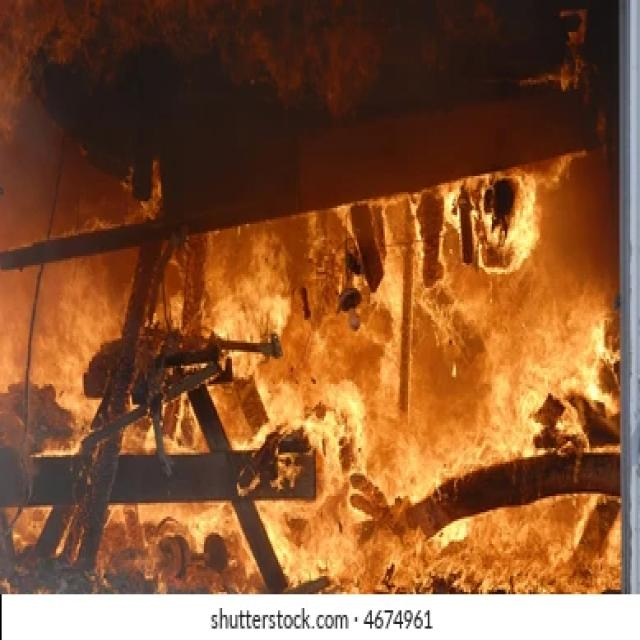fire: (370, 295, 614, 585), (214, 236, 363, 564), (452, 185, 548, 268)
